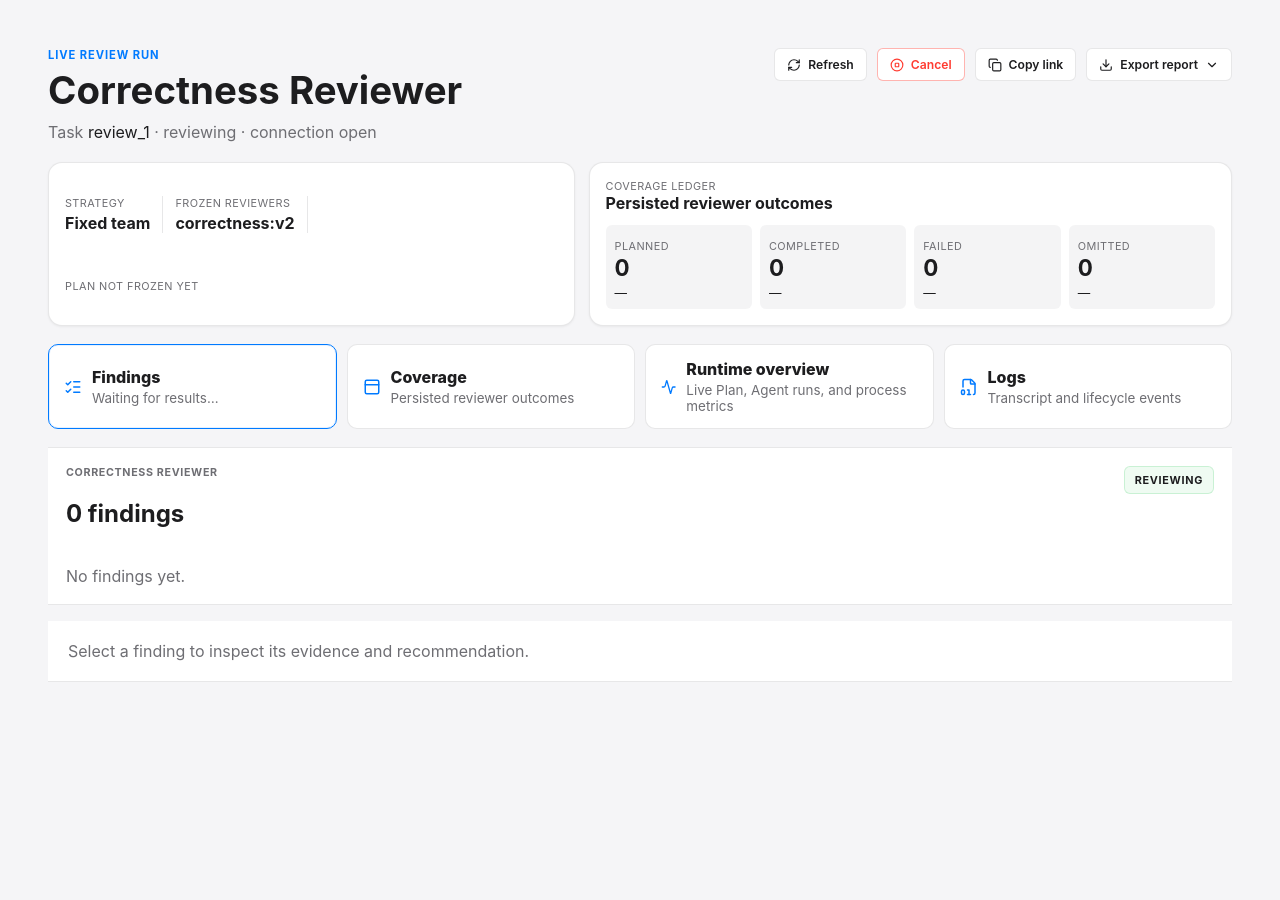
keeps polling an empty transcript after completion until the worker persists it
This screenshot has width=1280, height=900.
Click the tab "Logs Transcript and lifecycle events".
click(1007, 377)  # box [944, 344, 1232, 429]
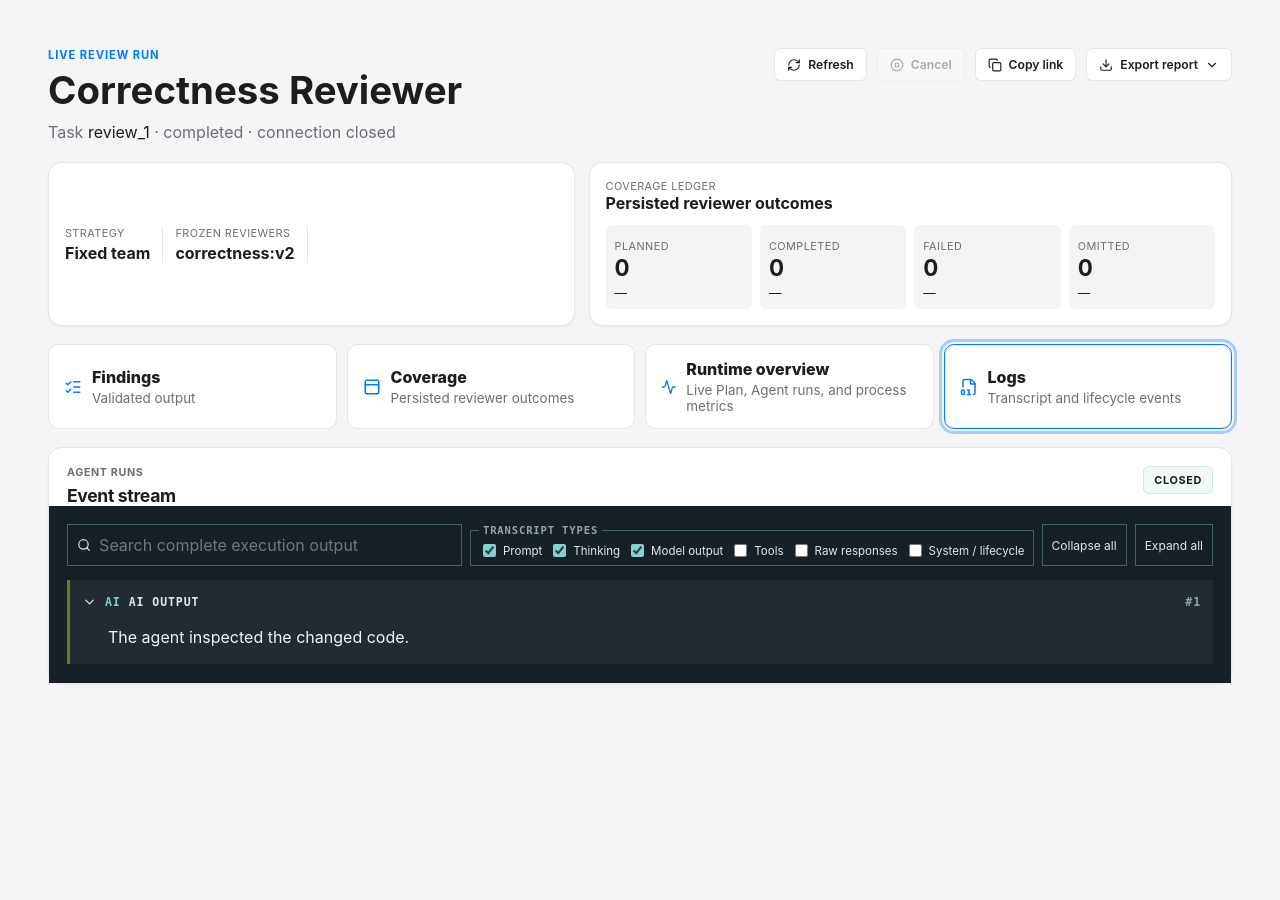
Now the text "The agent inspected the changed code." is shown, box [108, 627, 409, 647]
